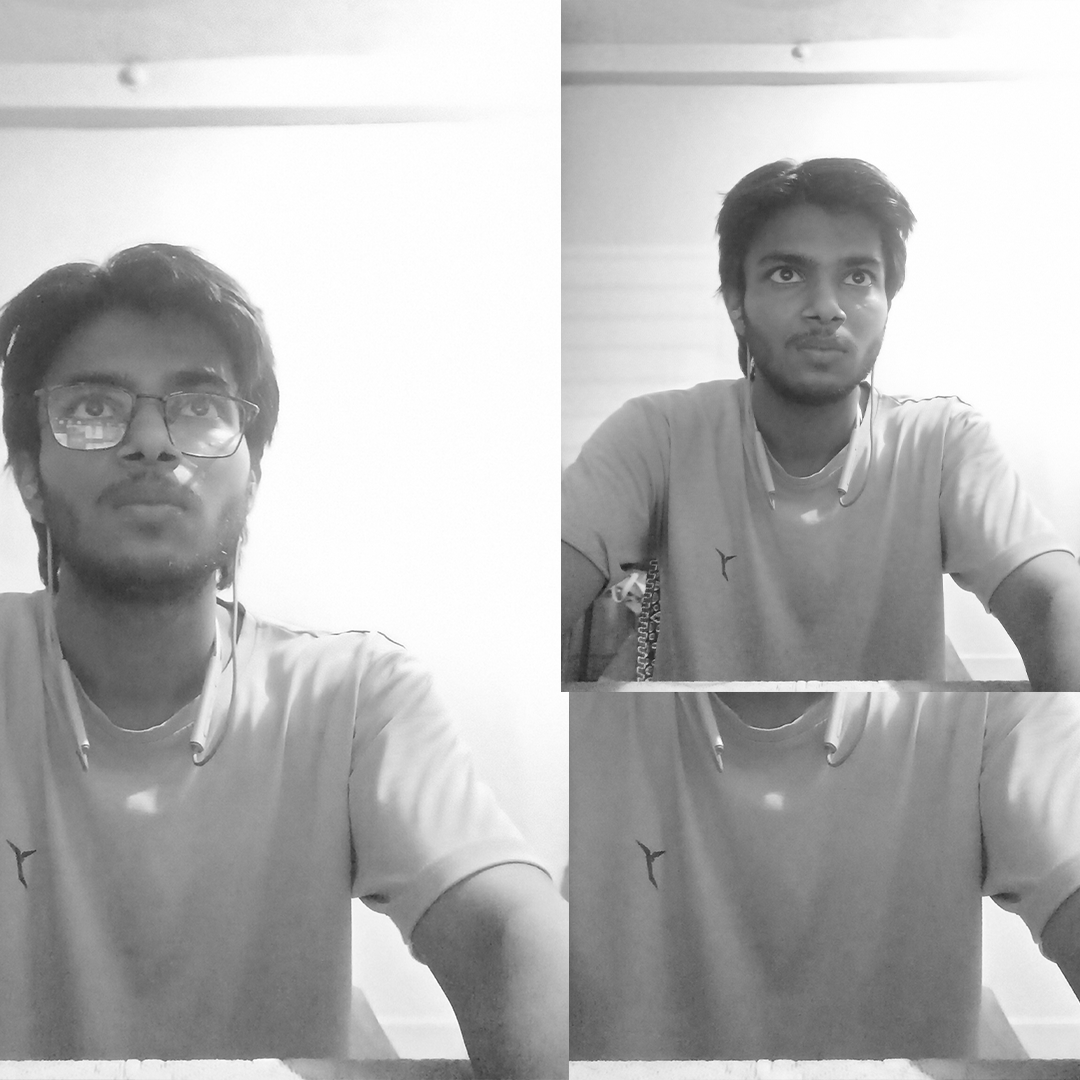Focused: (10, 194, 308, 675), (636, 123, 946, 455)
